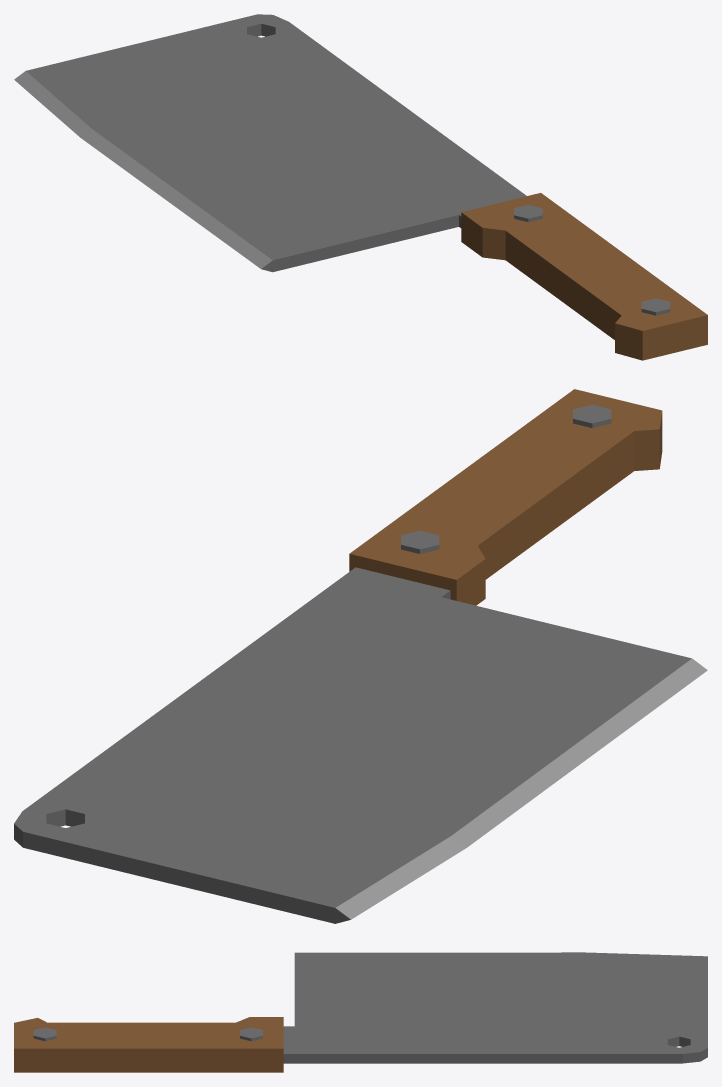
File: KitchenKnife_01.fbx
The picture shows the model from 3 angles, top to bottom: view 1: azimuth 30°, elevation 25°; view 2: azimuth 150°, elevation 25°; view 3: azimuth 270°, elevation 25°; orthographic projection. The views are drawn at different scales.
Visible parts, largest first — view 1: KitchenKnife_01; view 2: KitchenKnife_01; view 3: KitchenKnife_01.
Boxes of the visible parts, x1,y1,x2,y2 form: KitchenKnife_01: [14, 14, 707, 360]; KitchenKnife_01: [14, 389, 707, 923]; KitchenKnife_01: [14, 952, 707, 1072].
Size of the model in its own units: 12.45 by 1.6 by 33.85.
